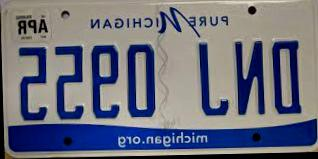License_Plate: (1, 0, 318, 151)
